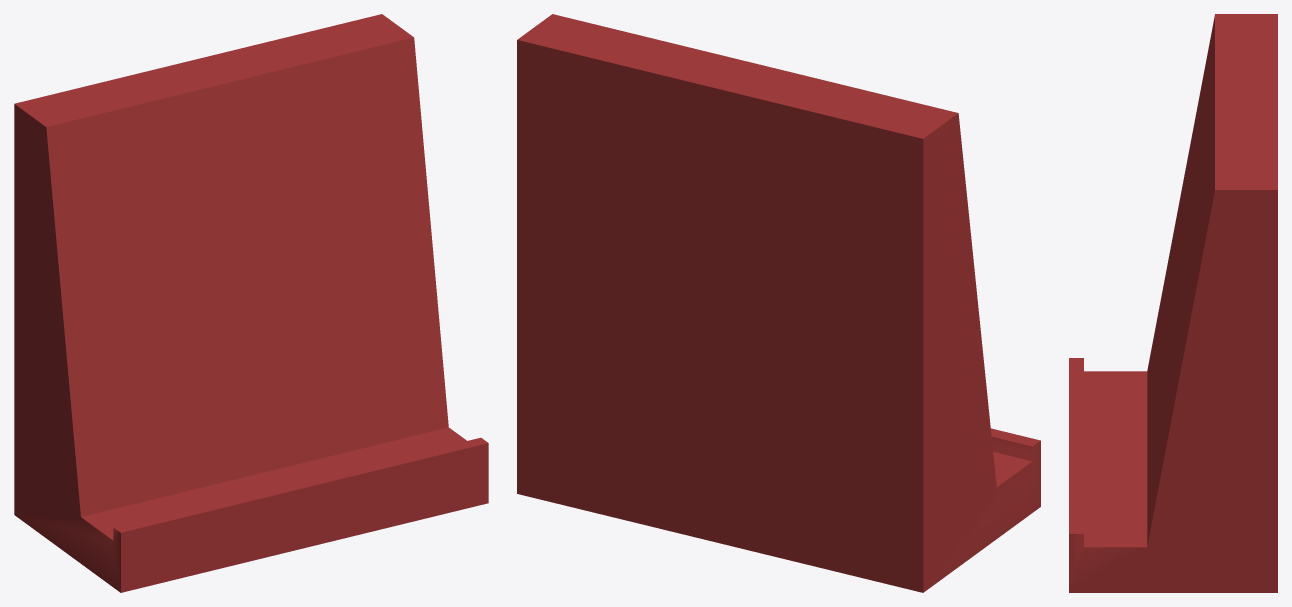
The model's file is st2_main_part_02_low.fbx.
The picture shows the model from 3 angles, left to right: view 1: azimuth 30°, elevation 25°; view 2: azimuth 150°, elevation 25°; view 3: azimuth 270°, elevation 25°; orthographic projection. The views are drawn at different scales.
Visible parts, largest first — view 1: Plane007; view 2: Plane007; view 3: Plane007.
Part boxes in pixels (x1,y1,x2,y2): Plane007: (14, 14, 488, 592); Plane007: (517, 14, 1040, 592); Plane007: (1069, 14, 1277, 592).
Size of the model in its own units: 236 by 253 by 119.
